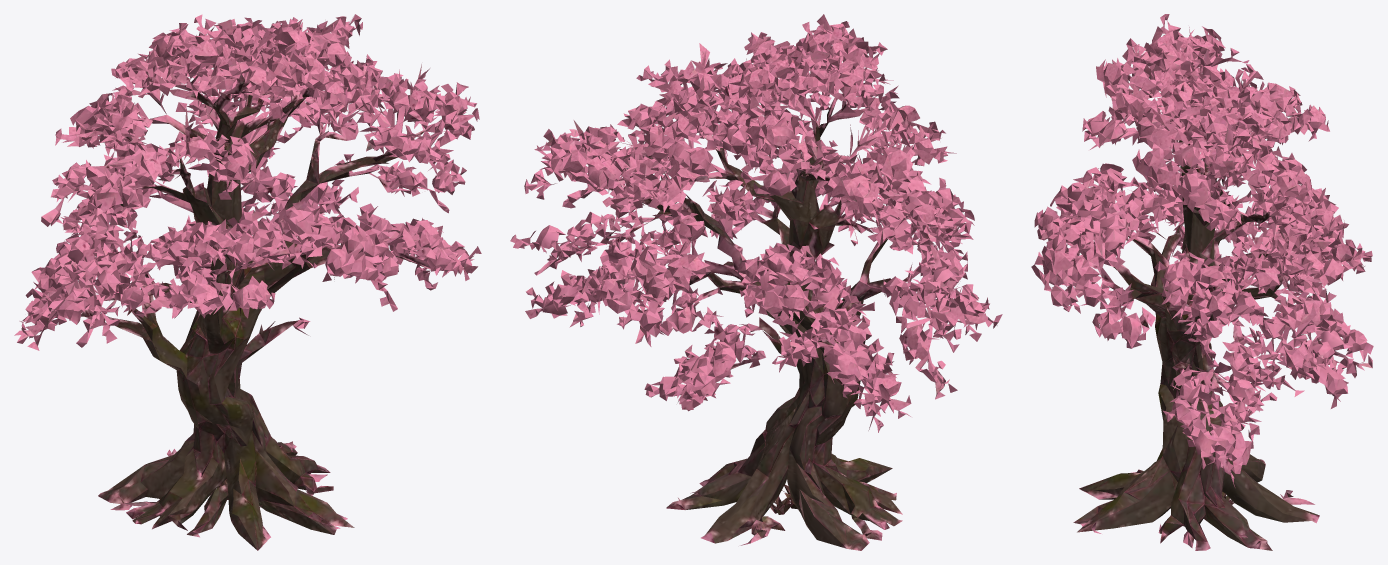
File: kyoto-cherry-tree.glb
3 renders of one model, left to right at view 1: azimuth 30°, elevation 25°; view 2: azimuth 150°, elevation 25°; view 3: azimuth 270°, elevation 25°, orthographic. The views are drawn at different scales.
Parts seen in each view (by area): view 1: output_unwrapped; view 2: output_unwrapped; view 3: output_unwrapped.
Part boxes in pixels (x1=…): output_unwrapped: x1=14, y1=14, x2=481, y2=550; output_unwrapped: x1=510, y1=14, x2=1002, y2=550; output_unwrapped: x1=1031, y1=14, x2=1373, y2=550.
Size of the model in its own units: 1.85 by 1.83 by 1.23.
1 material, 1 textured.
